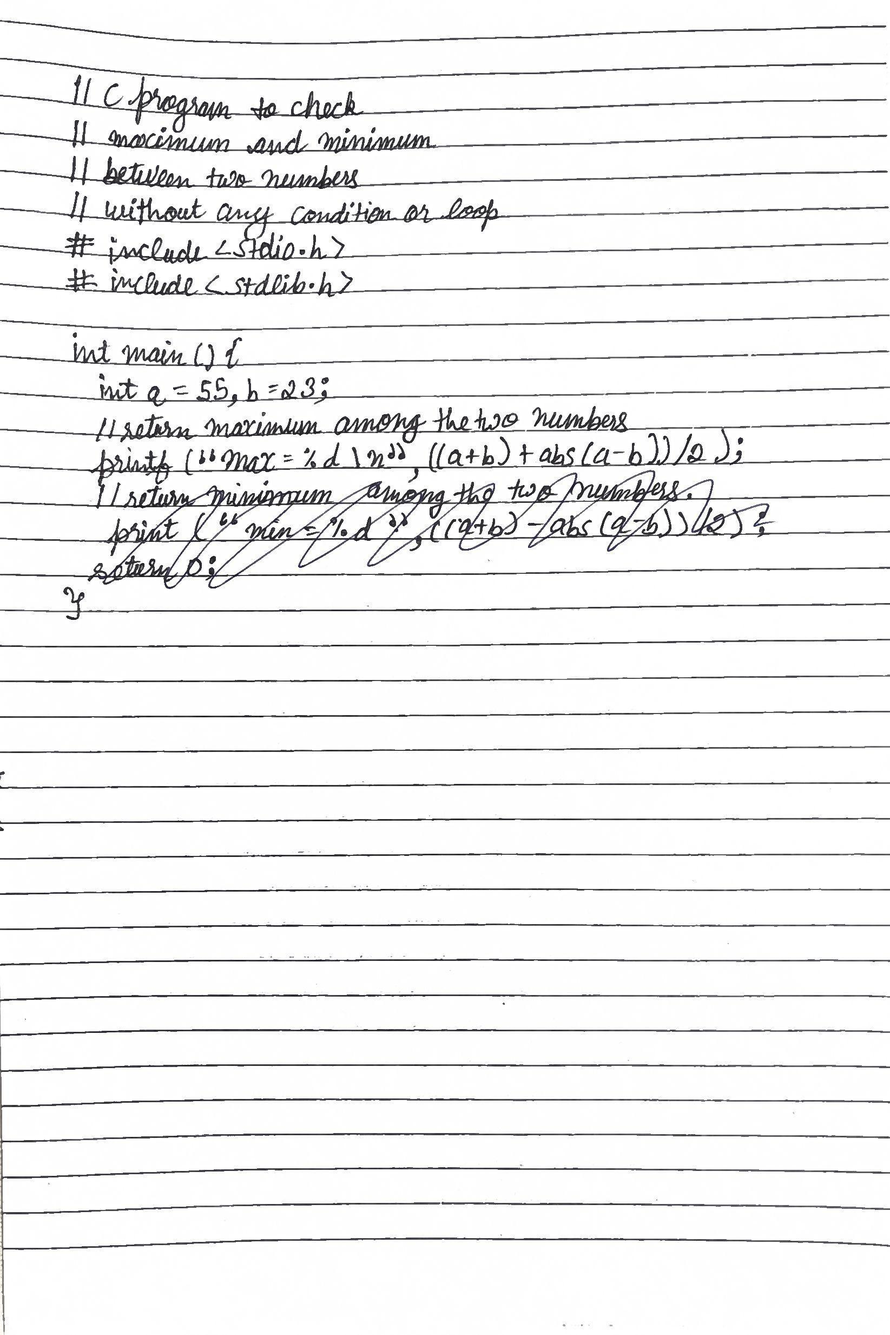cuttings: (86, 467, 777, 592)
